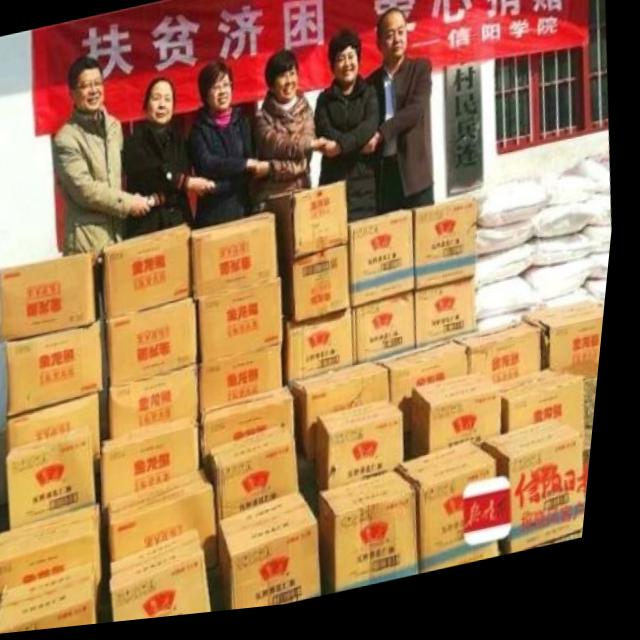box: (404, 451, 513, 584), (491, 430, 596, 566), (227, 496, 334, 617), (327, 480, 432, 601), (118, 473, 230, 576), (0, 509, 114, 598), (110, 419, 210, 518), (300, 368, 398, 467), (122, 533, 225, 626), (11, 323, 110, 418), (16, 427, 107, 528), (381, 349, 477, 444), (218, 430, 309, 526), (207, 392, 304, 482), (3, 254, 102, 341), (323, 407, 414, 500), (111, 301, 206, 390), (109, 229, 198, 321), (501, 380, 596, 464), (14, 396, 110, 479), (194, 217, 284, 304), (200, 283, 291, 368), (419, 382, 511, 466), (4, 565, 111, 636), (352, 217, 422, 315), (116, 368, 207, 442), (529, 313, 612, 394), (271, 188, 355, 268), (418, 206, 483, 300), (206, 351, 291, 419), (290, 316, 360, 398), (460, 331, 551, 393), (285, 252, 356, 327), (358, 302, 424, 372), (422, 288, 484, 356)
